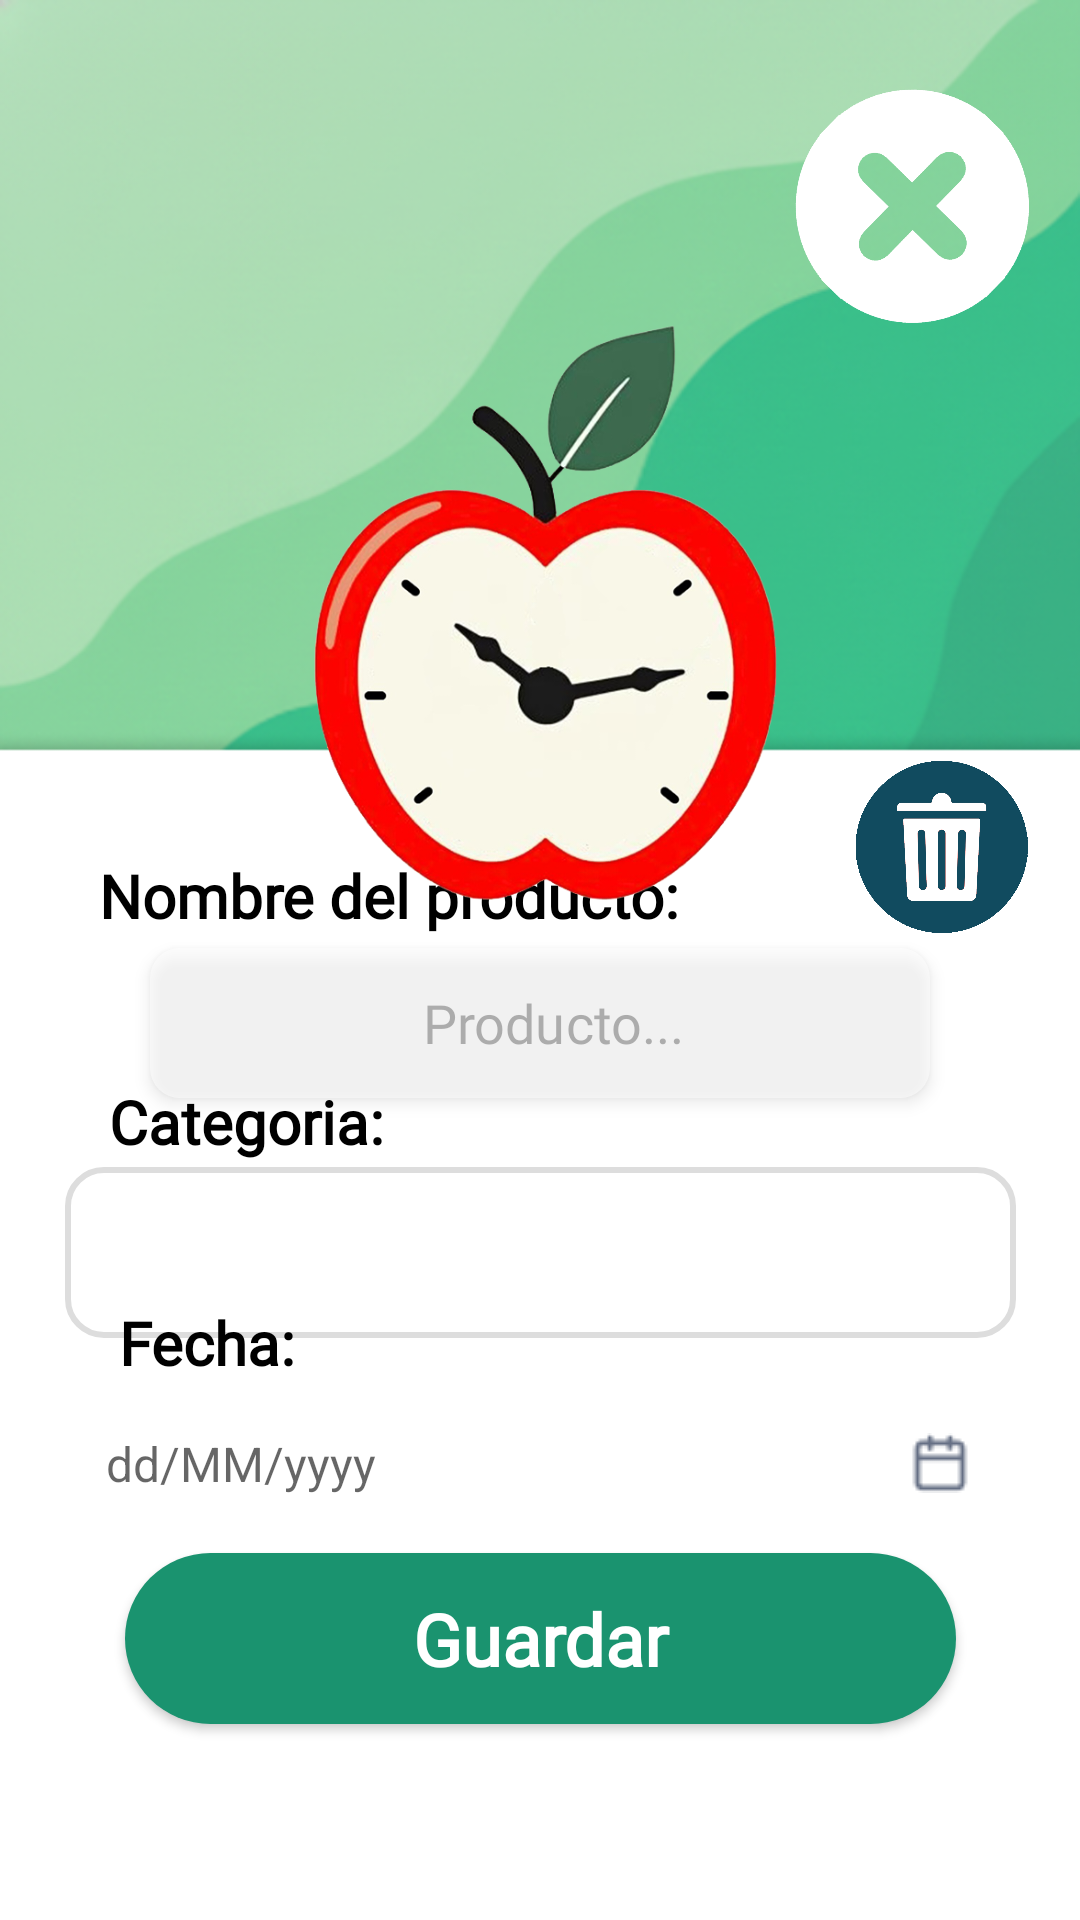

Screen size 1080×1920. Icon name, then its center in pixels as [x,y]:
calendario: [940,1463]
eliminar: [942,847]
salir: [910,210]
